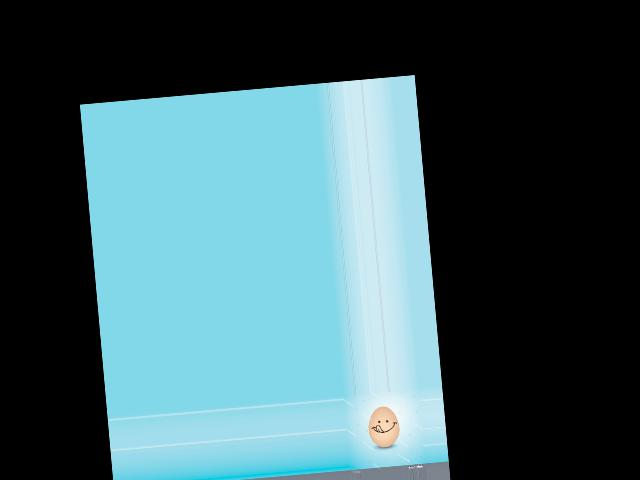egg: (366, 405, 400, 448)
